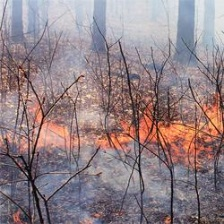fire: (8, 99, 224, 170)
